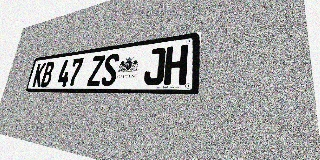4: (56, 59, 73, 87)
7: (67, 58, 84, 87)
B: (40, 61, 55, 87)
H: (163, 44, 188, 85)
J: (143, 47, 166, 85)
K: (32, 63, 46, 87)
S: (100, 53, 120, 86)
Z: (87, 55, 105, 86)
